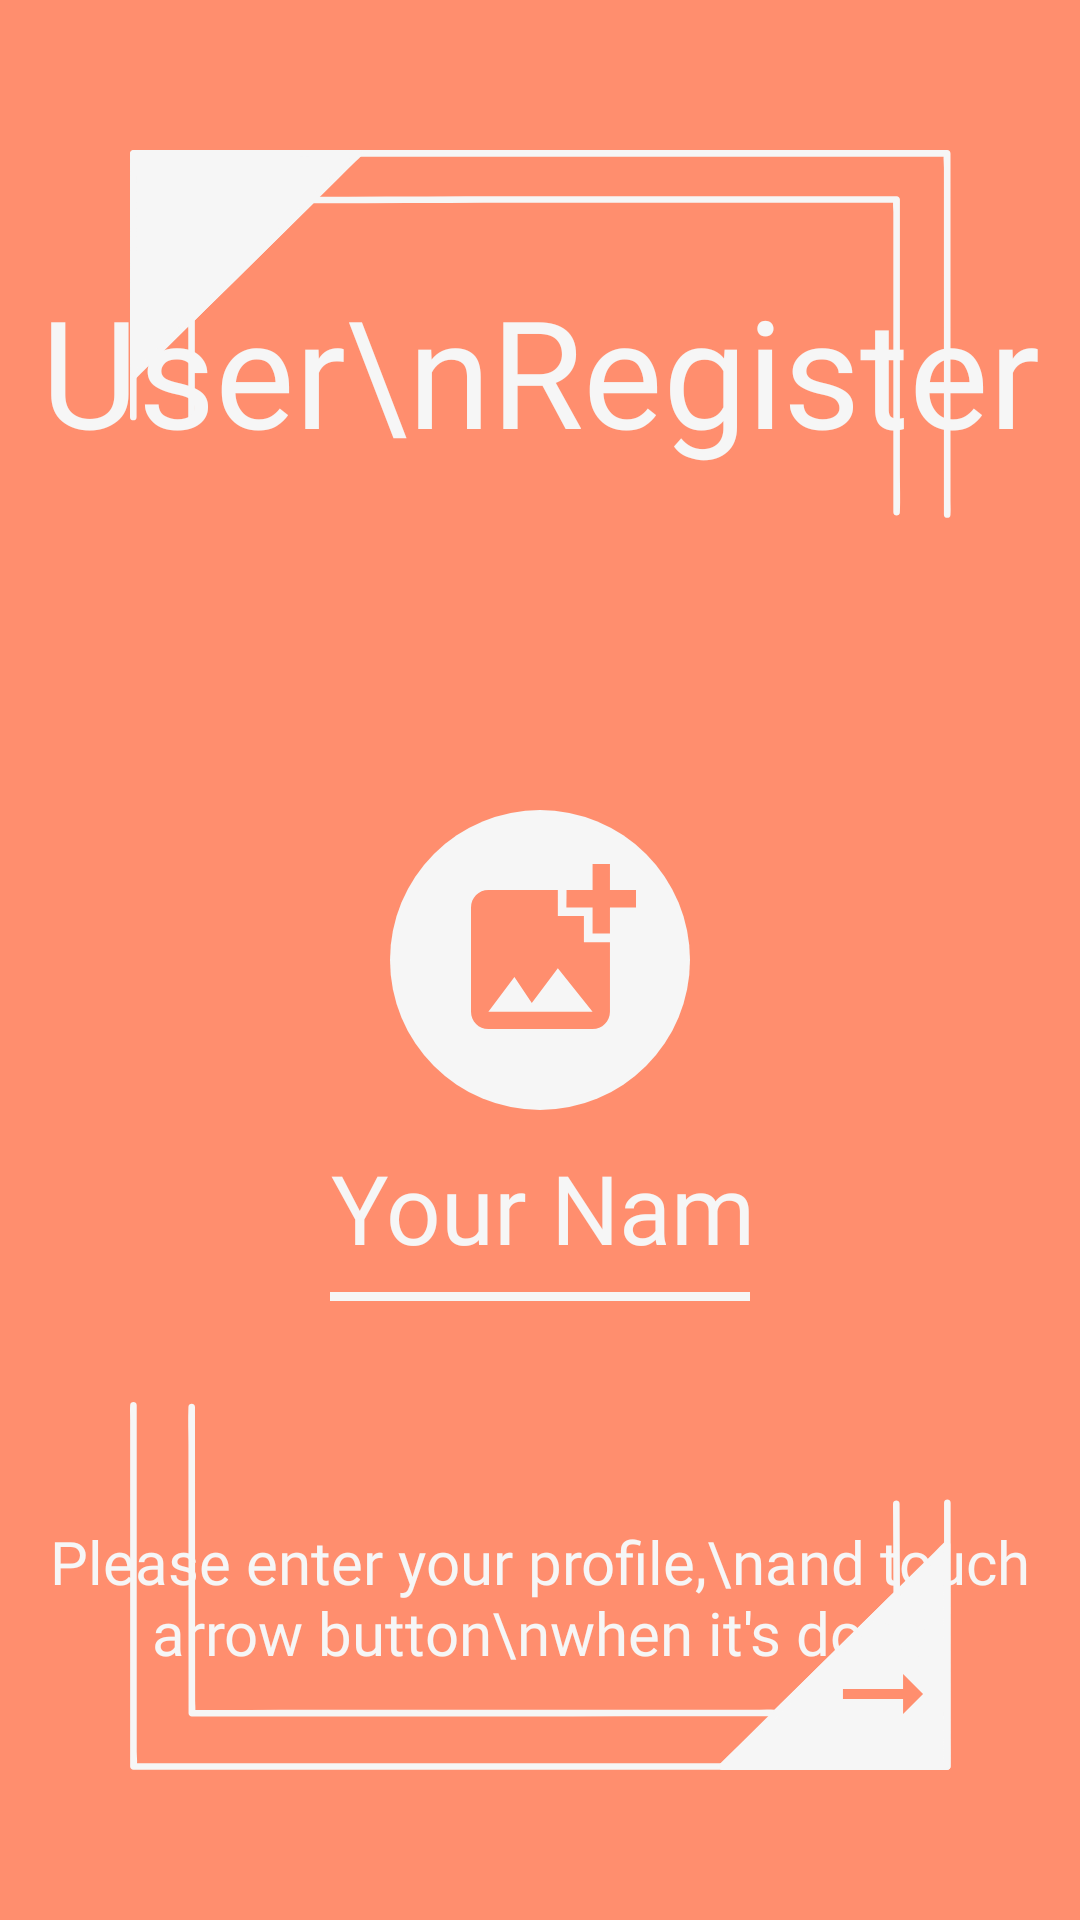

Point at icon controls on the screen. Image size 1080px x 1920px, points as point (x, y).
arrow right: point (883, 1694)
